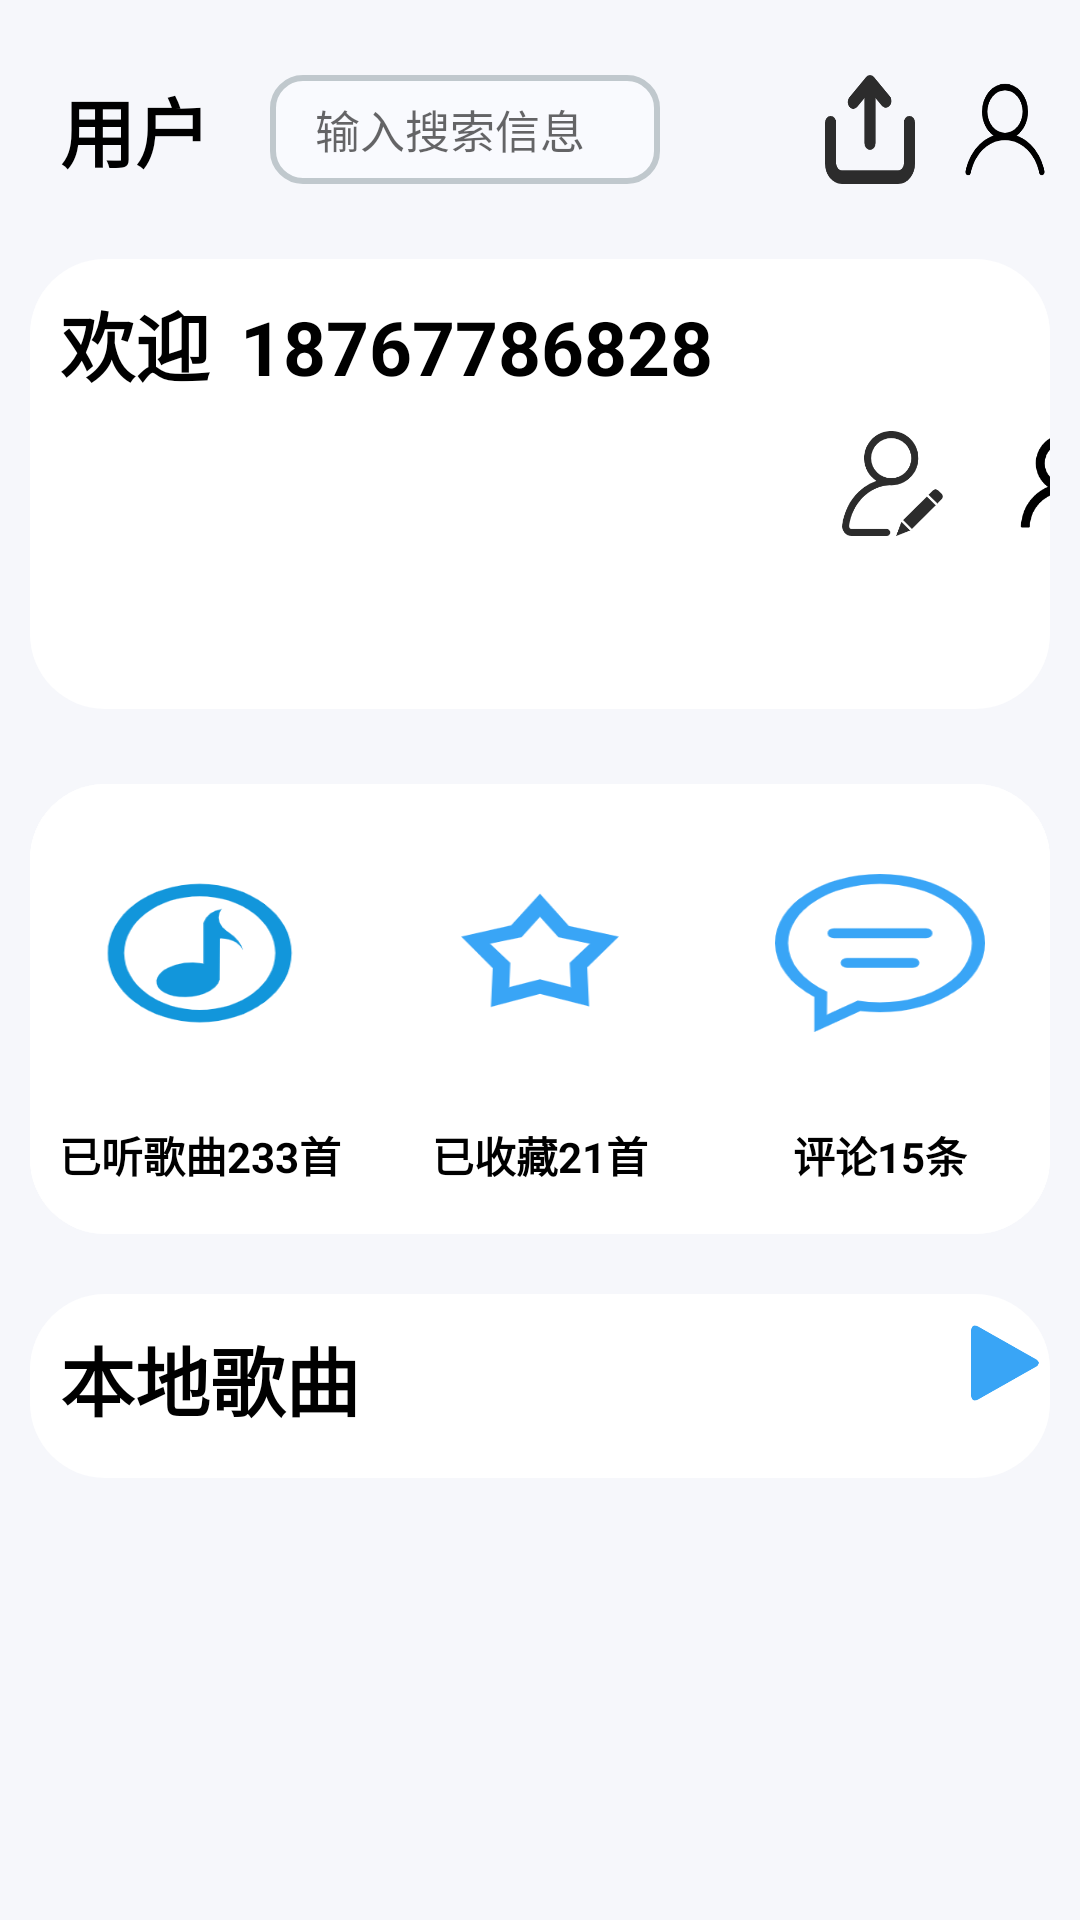

Icon bounding boxes for this 1080w x 1920h phone screenshot, format (x1, y1, x2, y2):
changeuserinfo: (842, 431, 943, 536)
comment: (775, 874, 985, 1032)
listen: (107, 883, 292, 1023)
store: (461, 894, 619, 1007)
upload: (825, 75, 915, 184)
userpage: (965, 84, 1045, 175)
